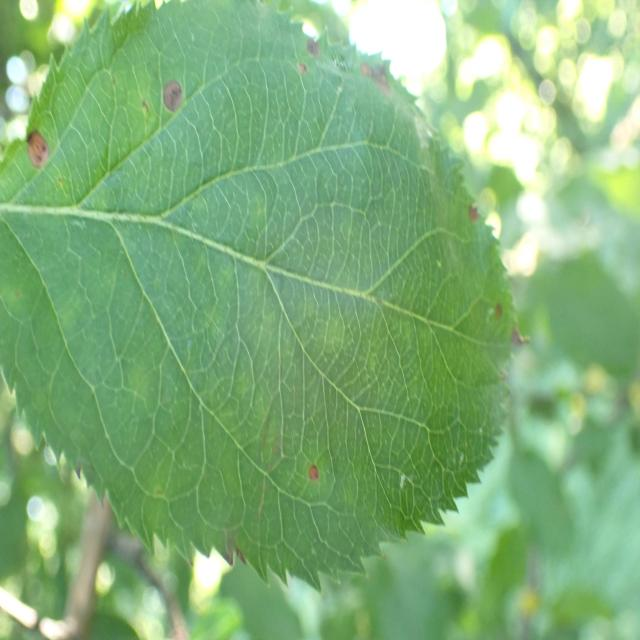frog-eye-leaf-spot: (1, 0, 530, 593)
